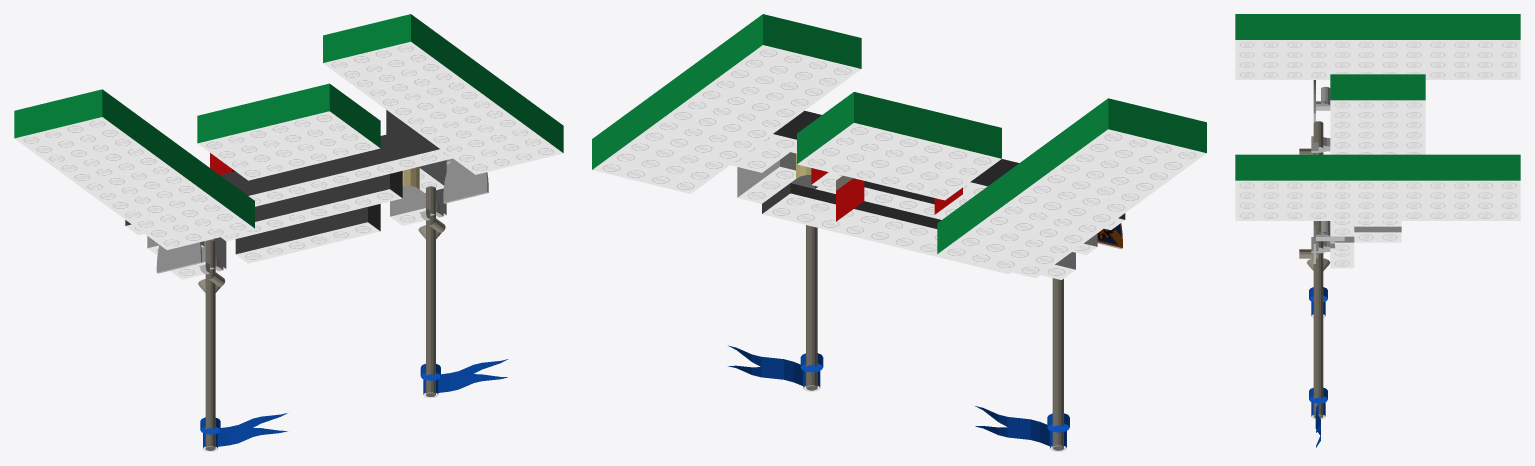
The picture shows the model from 3 angles, left to right: view 1: azimuth 30°, elevation 25°; view 2: azimuth 150°, elevation 25°; view 3: azimuth 270°, elevation 25°; orthographic projection. The views are drawn at different scales.
Visible parts, largest first — view 1: 004_OC_6095B5_PART_1, 039_shape16, 025_shape7, 031_shape13, 028_shape10, 020_L_449500_flag_Blue_135, 012_SCL_Castle___OC6095B5___FlagL; view 2: 004_OC_6095B5_PART_1, 043_shape17, 039_shape16, 025_shape7, 031_shape13, 020_L_449500_flag_Blue_135, 012_SCL_Castle___OC6095B5___FlagL, 047_shape19; view 3: 004_OC_6095B5_PART_1, 025_shape7, 031_shape13, 028_shape10, 039_shape16, 018_L_449500_pole_Blue.
Boxes of the visible parts, bbox=[...] form: 004_OC_6095B5_PART_1: bbox=[14, 14, 563, 249]; 039_shape16: bbox=[125, 110, 452, 263]; 025_shape7: bbox=[198, 186, 445, 448]; 031_shape13: bbox=[147, 158, 452, 279]; 028_shape10: bbox=[156, 158, 488, 273]; 020_L_449500_flag_Blue_135: bbox=[439, 359, 508, 392]; 012_SCL_Castle___OC6095B5___FlagL: bbox=[219, 413, 287, 446]; 004_OC_6095B5_PART_1: bbox=[592, 14, 1206, 278]; 043_shape17: bbox=[762, 175, 1010, 274]; 039_shape16: bbox=[730, 110, 1125, 230]; 025_shape7: bbox=[806, 225, 1063, 448]; 031_shape13: bbox=[737, 135, 1097, 279]; 020_L_449500_flag_Blue_135: bbox=[728, 345, 802, 385]; 012_SCL_Castle___OC6095B5___FlagL: bbox=[975, 406, 1048, 445]; 047_shape19: bbox=[811, 168, 973, 217]; 004_OC_6095B5_PART_1: bbox=[1235, 14, 1520, 220]; 025_shape7: bbox=[1299, 121, 1330, 416]; 031_shape13: bbox=[1330, 226, 1401, 268]; 028_shape10: bbox=[1313, 80, 1344, 263]; 039_shape16: bbox=[1330, 221, 1401, 236]; 018_L_449500_pole_Blue: bbox=[1309, 387, 1327, 419].
Size of the model in its own units: 14.4 by 9.76 by 9.6.
Materials: 11 (3 with a texture image).
